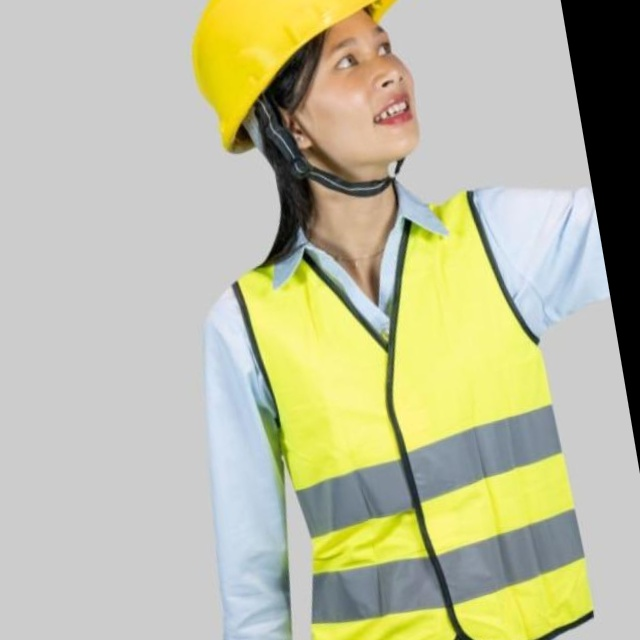Con_Casco: (177, 0, 442, 198)
Con_Chaleco: (222, 176, 604, 640)
